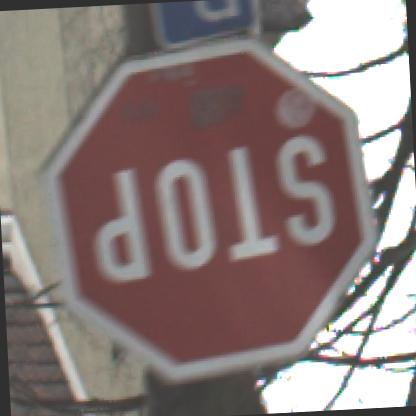stop: (36, 41, 392, 370)
